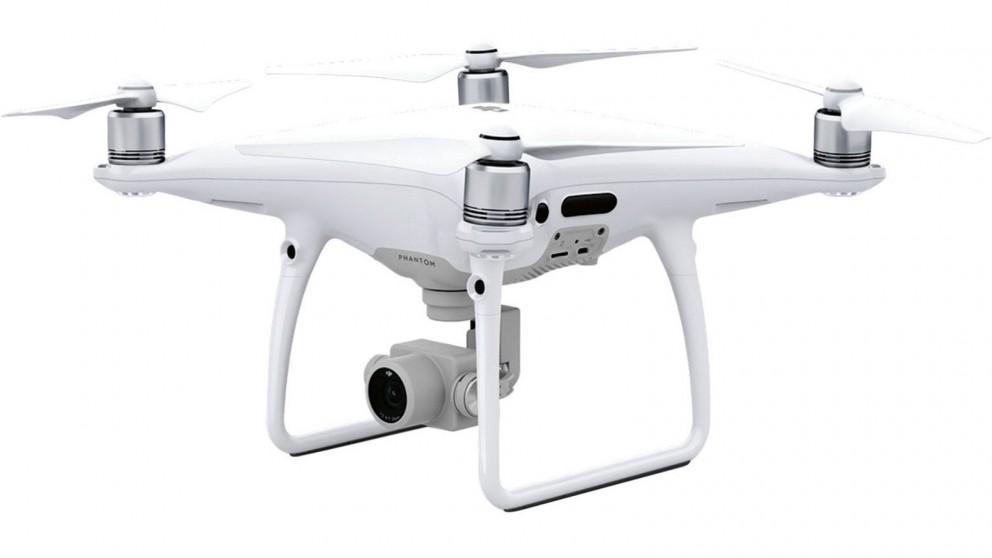drone: (29, 30, 992, 298)
